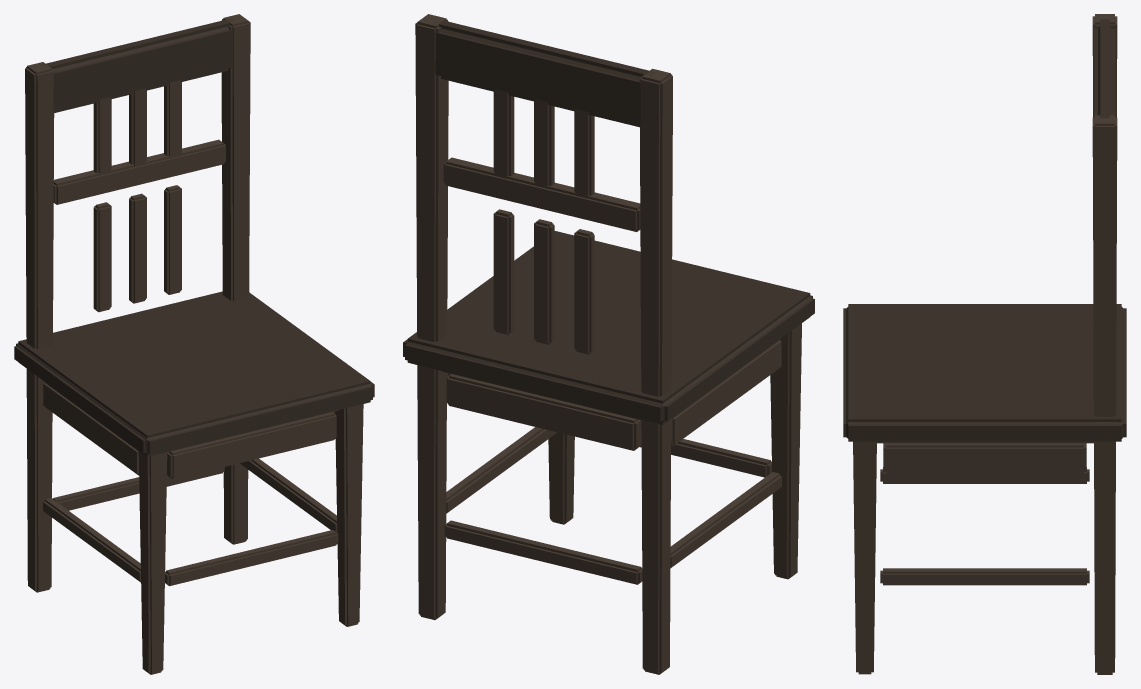
File: chair_noir_v2.glb
3 views of the same model, side by side, from view 1: azimuth 30°, elevation 25°; view 2: azimuth 150°, elevation 25°; view 3: azimuth 270°, elevation 25° (orthographic). The views are drawn at different scales.
Visible parts, largest first — view 1: chair_noir; view 2: chair_noir; view 3: chair_noir.
Boxes of the visible parts, x1,y1,x2,y2 form: chair_noir: (14, 14, 374, 674); chair_noir: (403, 14, 814, 674); chair_noir: (843, 14, 1126, 674).
Size of the model in its own units: 0.46 by 0.99 by 0.46.
